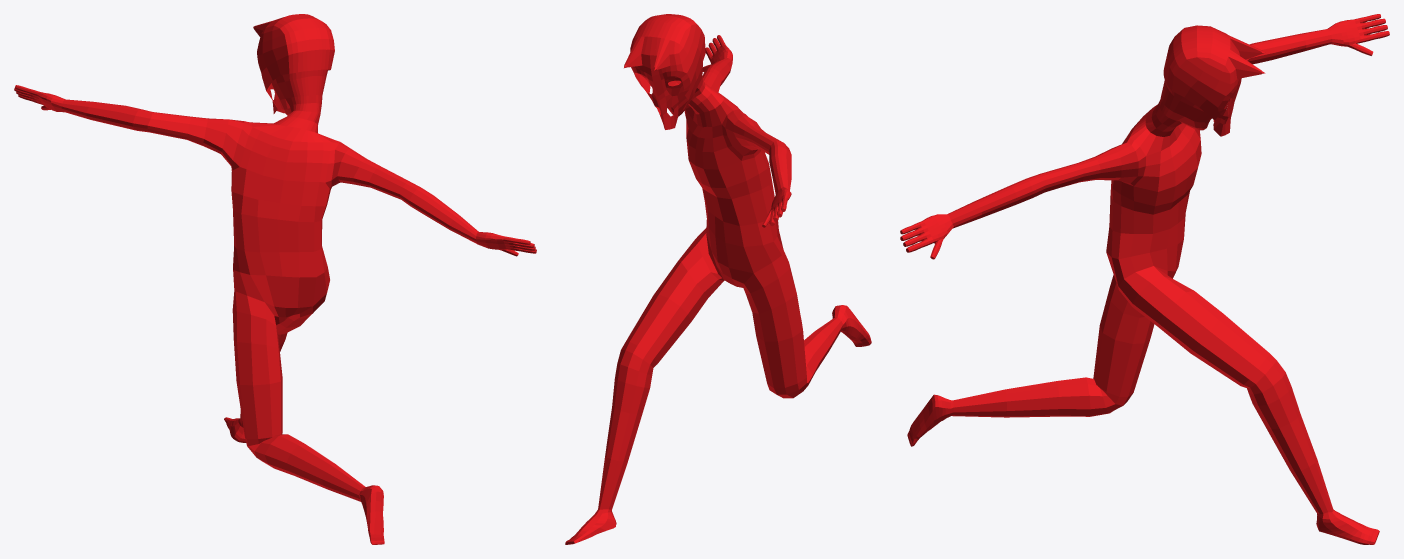
File: saltoadelanteE_000117.obj
3 renders of one model, left to right at view 1: azimuth 30°, elevation 25°; view 2: azimuth 150°, elevation 25°; view 3: azimuth 270°, elevation 25°, orthographic. The views are drawn at different scales.
Parts seen in each view (by area): view 1: Plane.002_Plane.001; view 2: Plane.002_Plane.001; view 3: Plane.002_Plane.001.
Part boxes in pixels (<box>): Plane.002_Plane.001: <box>14,14,536,544</box>; Plane.002_Plane.001: <box>565,14,871,544</box>; Plane.002_Plane.001: <box>900,14,1389,544</box>.
Bounding box in the file's own units: 4.05 × 6.08 × 5.36.
